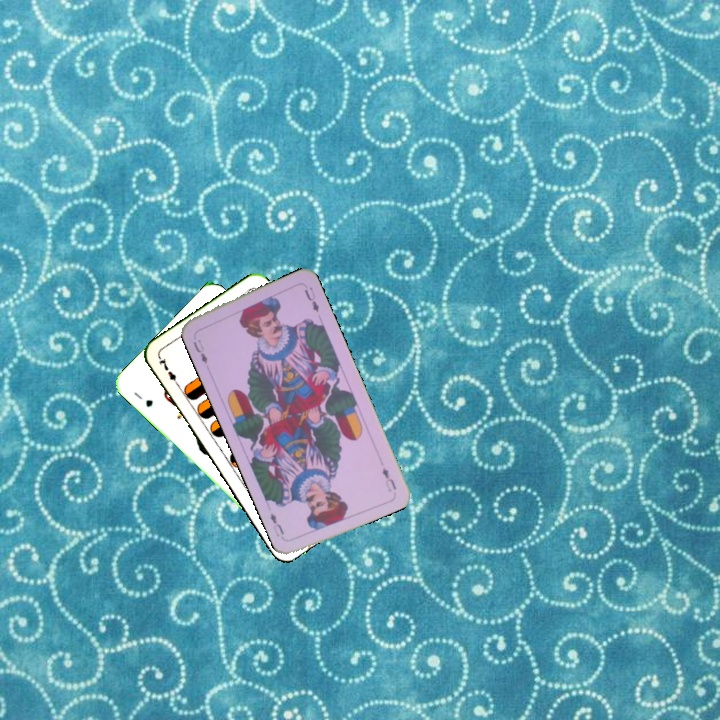E7: (155, 354, 182, 390)
EU: (378, 463, 399, 495), (189, 335, 210, 366)
GU: (130, 388, 156, 410)
